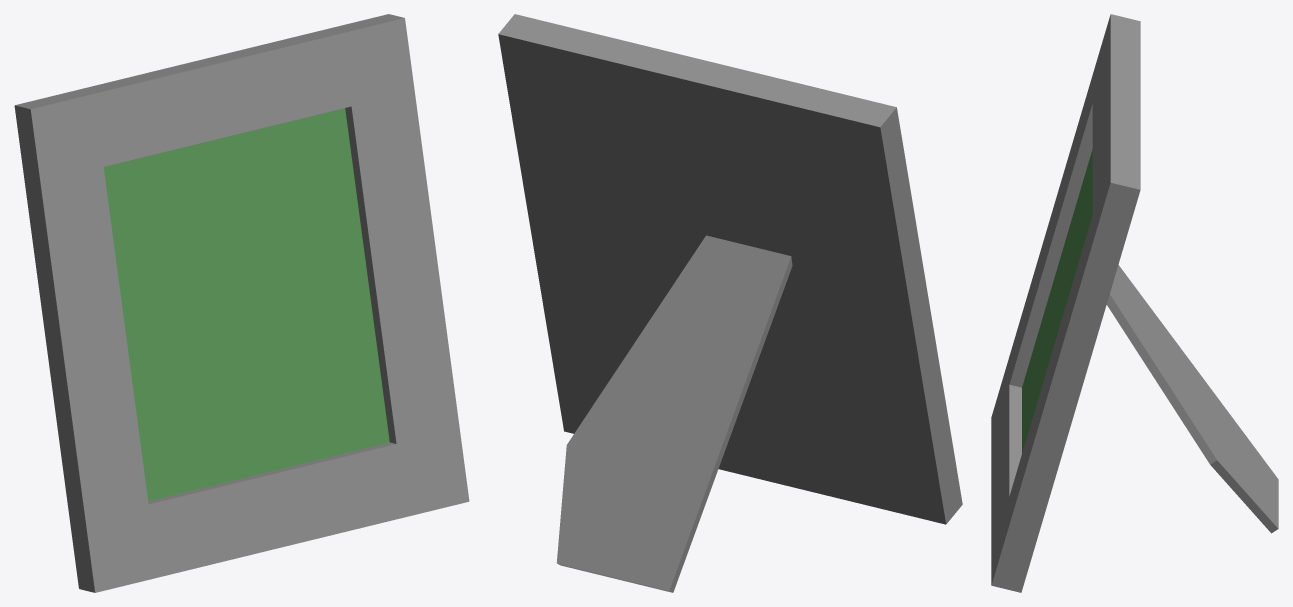
Rendered from Frame_Single.FBX.
The picture shows the model from 3 angles, left to right: view 1: azimuth 30°, elevation 25°; view 2: azimuth 150°, elevation 25°; view 3: azimuth 270°, elevation 25°; orthographic projection. The views are drawn at different scales.
Parts seen in each view (by area): view 1: Frame_Single; view 2: Frame_Single; view 3: Frame_Single.
Part boxes in pixels (<box>): Frame_Single: <box>14,14,469,592</box>; Frame_Single: <box>498,14,962,592</box>; Frame_Single: <box>991,14,1278,592</box>.
Size of the model in its own units: 9.66 by 10.95 by 6.94.
